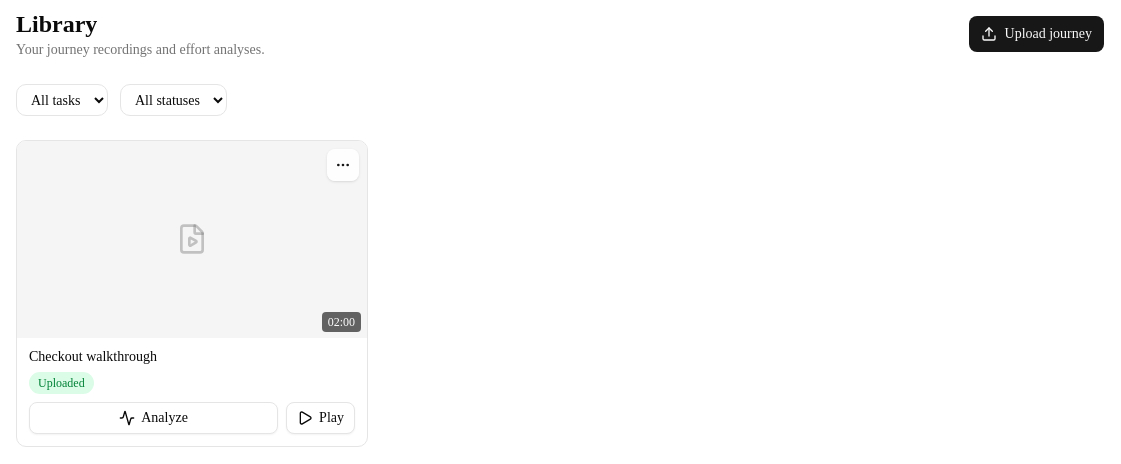
it: analyzing from the library › says the run is queued before a worker picks it up
Click the button "Analyze" at (154, 418), box [29, 402, 278, 434]
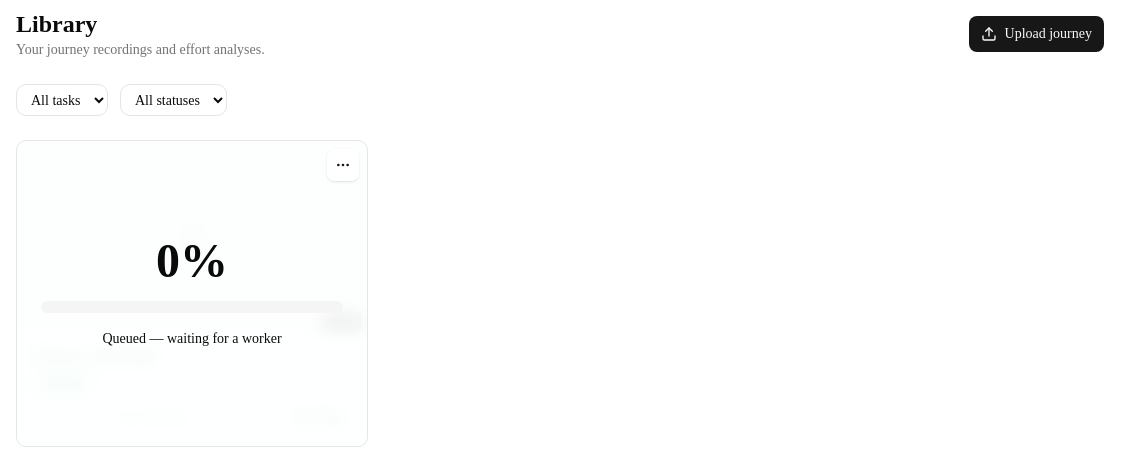
expect the text "Queued — waiting for a worker" is shown: met, box [102, 329, 282, 349]
